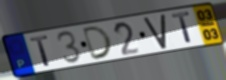2: (112, 20, 141, 57)
3: (57, 30, 83, 65)
D: (81, 24, 115, 61)
T: (170, 10, 194, 45), (28, 34, 52, 68)
V: (142, 13, 168, 51)
